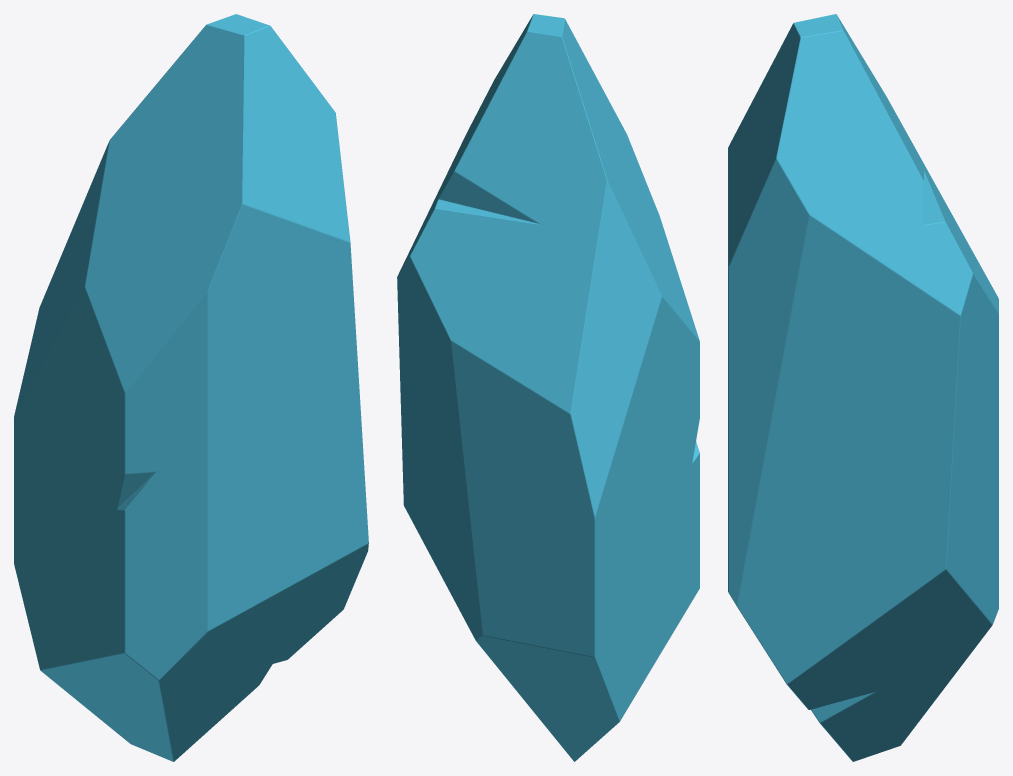
The model's file is crystall.fbx.
The picture shows the model from 3 angles, left to right: view 1: azimuth 30°, elevation 25°; view 2: azimuth 150°, elevation 25°; view 3: azimuth 270°, elevation 25°; orthographic projection. The views are drawn at different scales.
Visible parts, largest first — view 1: Crystal; view 2: Crystal; view 3: Crystal.
Part boxes in pixels (x1=…): Crystal: x1=14, y1=14, x2=368, y2=761; Crystal: x1=397, y1=14, x2=699, y2=761; Crystal: x1=728, y1=14, x2=998, y2=761.
Bounding box in the file's own units: 4.88 × 15.12 × 4.88.
